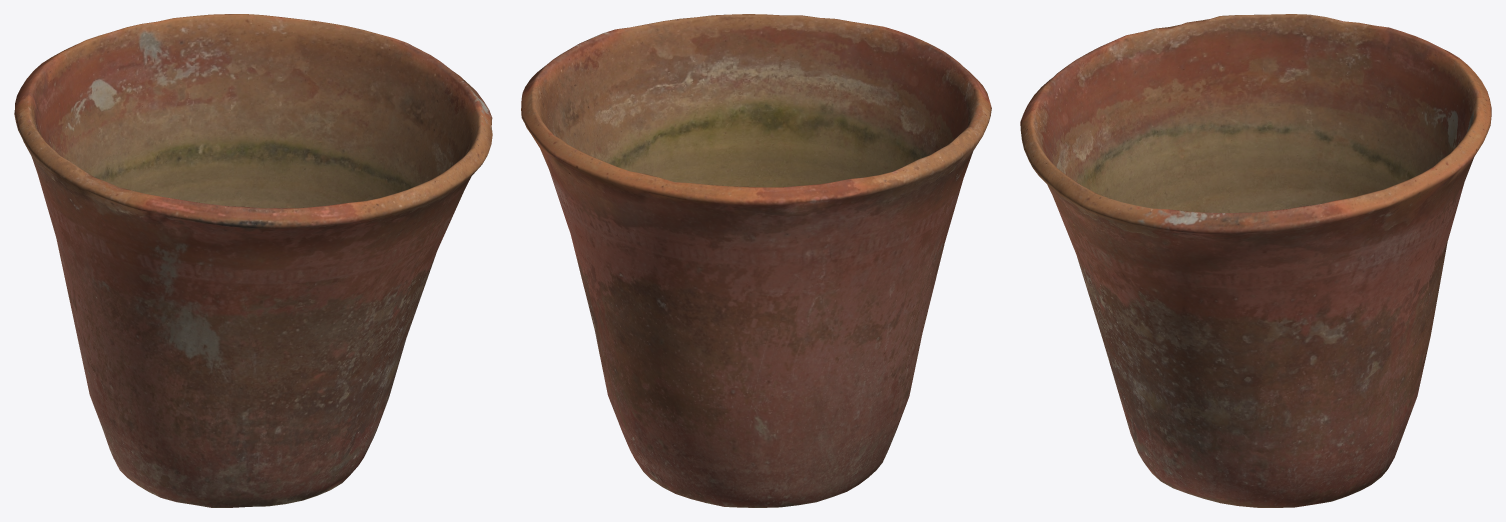
Rendered from planter_pot_clay.glb.
The picture shows the model from 3 angles, left to right: view 1: azimuth 30°, elevation 25°; view 2: azimuth 150°, elevation 25°; view 3: azimuth 270°, elevation 25°; orthographic projection.
Visible parts, largest first — view 1: planter_pot_clay; view 2: planter_pot_clay; view 3: planter_pot_clay.
Part boxes in pixels (<box>): planter_pot_clay: <box>14,14,492,507</box>; planter_pot_clay: <box>521,14,991,507</box>; planter_pot_clay: <box>1020,14,1491,507</box>.
Size of the model in its own units: 0.266 by 0.2219 by 0.2635.
1 material, 1 textured.
